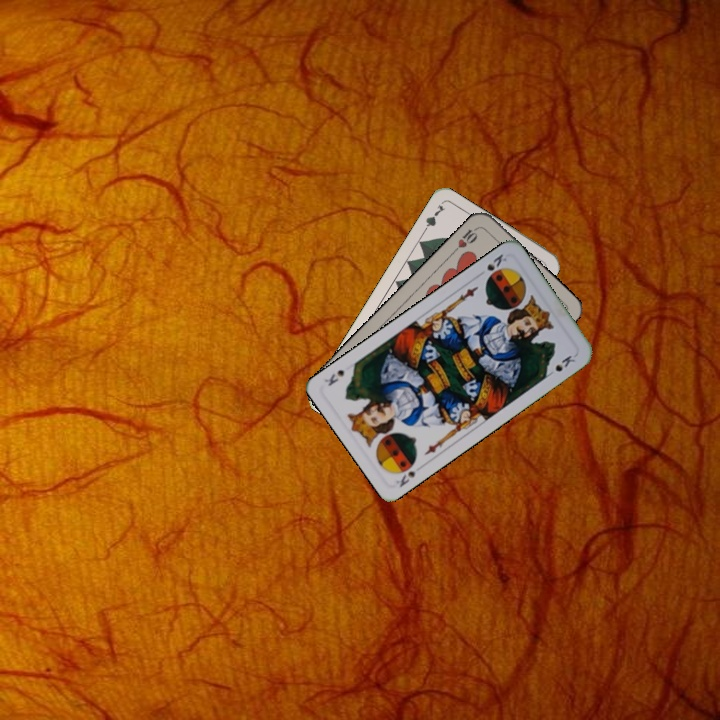G7: (418, 200, 448, 237)
H10: (449, 223, 481, 255)
SK: (392, 456, 425, 490), (483, 250, 509, 273)
